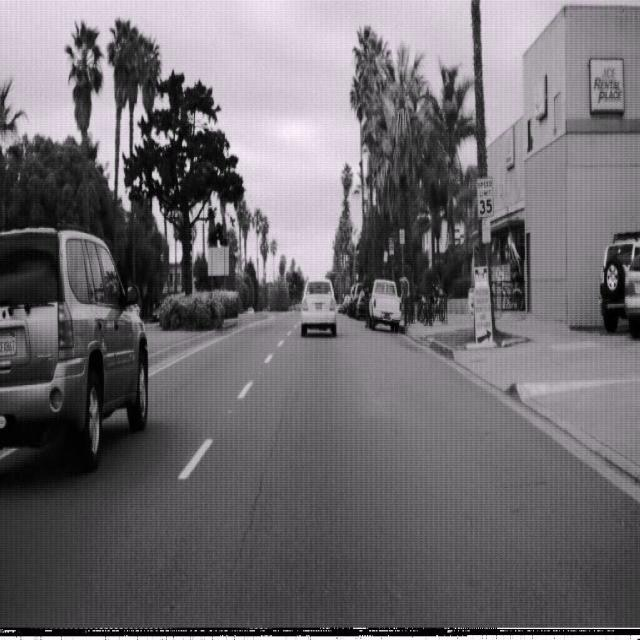speedLimit35: (476, 176, 494, 220)
